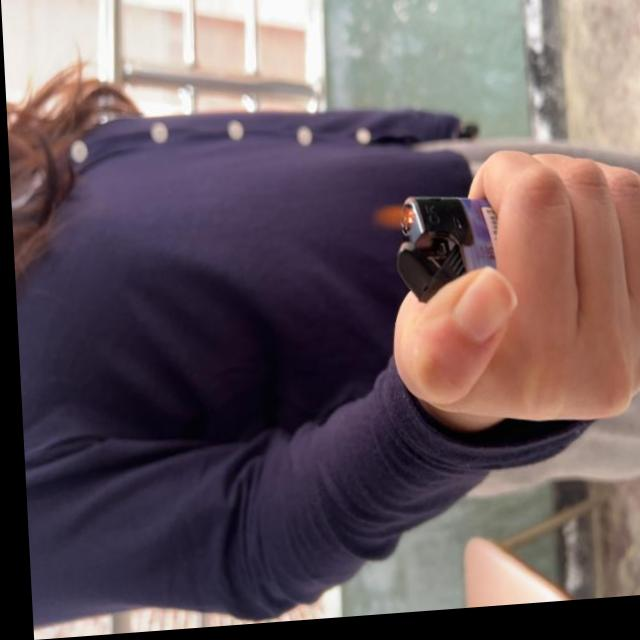Fire: (366, 211, 413, 239)
